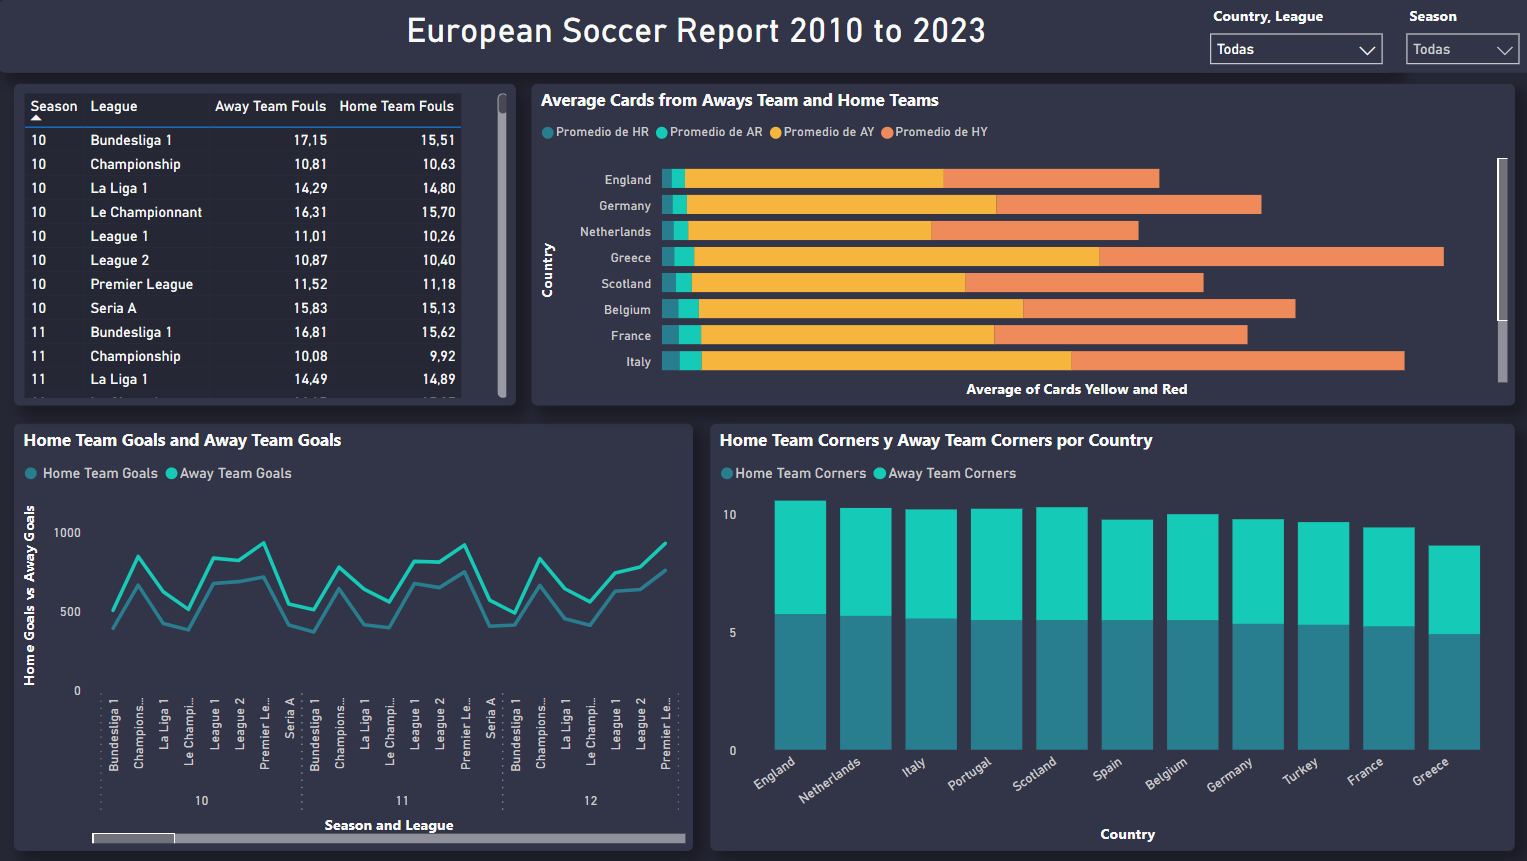

The page's visual inventory and layout, read from the dashboard file:
{"tool":"powerbi","page":{"name":"ReportSoccer","canvas":[1280,720],"ordinal":0},"visuals":[{"type":"lineChart","title":" Home Team Goals and Away Team Goals","fields":{"Y":["Sum(clean_data_futbol_20102023.FTAG)","Sum(clean_data_futbol_20102023.FTHG)"],"Category":["clean_data_futbol_20102023.Season","clean_data_futbol_20102023.League"]},"box":[12.8,353.7,567.1,356.5],"z":0},{"type":"textbox","box":[0,0,1165.1,61.1],"z":1000},{"type":"tableEx","fields":{"Values":["clean_data_futbol_20102023.Season","clean_data_futbol_20102023.League","Avg(clean_data_futbol_20102023.AF)","Avg(clean_data_futbol_20102023.HF)"]},"box":[12.8,70.2,419.4,268.9],"z":2000},{"type":"barChart","title":"Average Cards from Aways Team and Home Teams","fields":{"Category":["clean_data_futbol_20102023.Country"],"Y":["Avg(clean_data_futbol_20102023.HR)","Avg(clean_data_futbol_20102023.AR)","Avg(clean_data_futbol_20102023.AY)","Avg(clean_data_futbol_20102023.HY)"]},"box":[444.9,70.2,821.4,268.9],"z":3000},{"type":"slicer","fields":{"Values":["clean_data_futbol_20102023.Season"]},"box":[1165.1,0,114.9,61.1],"z":4000},{"type":"slicer","fields":{"Values":["clean_data_futbol_20102023.Country","clean_data_futbol_20102023.League"]},"box":[1001,0,164.1,61.1],"z":5000},{"type":"lineStackedColumnComboChart","fields":{"Category":["clean_data_futbol_20102023.Country"],"Y":["Avg(clean_data_futbol_20102023.HC)","Avg(clean_data_futbol_20102023.AC)"]},"box":[594.4,353.7,671.9,356.5],"z":6000}]}

Visuals, with their boxes in screenshot pixels (x1, y1, x2, y2), scaled from the page's 1280x720 canvas onto the 1527x861 screenshot:
" Home Team Goals and Away Team Goals" lineChart: detection(15, 423, 692, 849)
textbox: detection(0, 0, 1390, 73)
tableEx - clean_data_futbol_20102023.Season x clean_data_futbol_20102023.League: detection(15, 84, 516, 406)
"Average Cards from Aways Team and Home Teams" barChart: detection(531, 84, 1511, 406)
slicer - clean_data_futbol_20102023.Season: detection(1390, 0, 1526, 73)
slicer - clean_data_futbol_20102023.Country x clean_data_futbol_20102023.League: detection(1194, 0, 1390, 73)
lineStackedColumnComboChart - clean_data_futbol_20102023.Country x Avg(clean_data_futbol_20102023.HC): detection(709, 423, 1511, 849)
